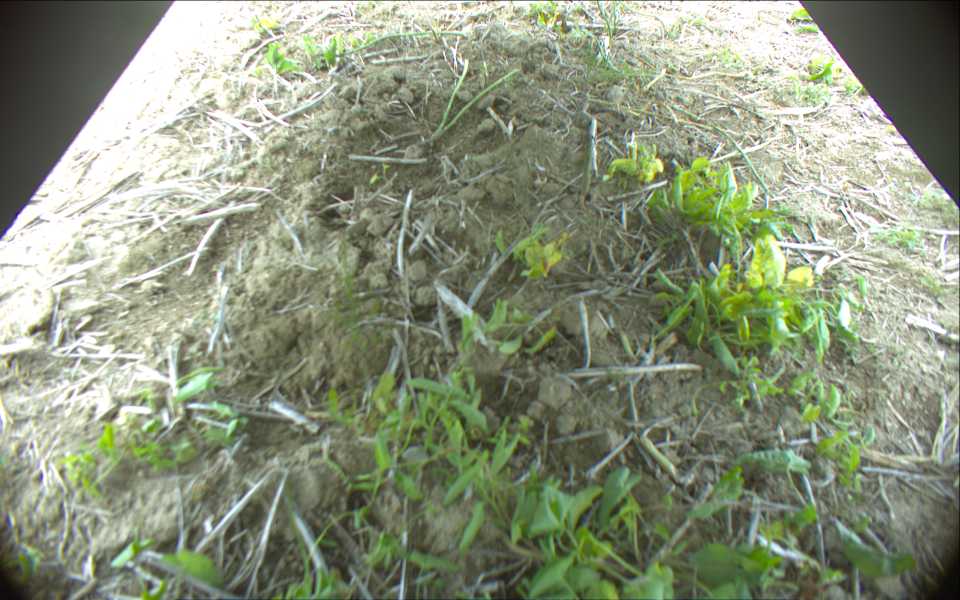aspa: (671, 105, 771, 198), (438, 69, 517, 140), (421, 59, 469, 146), (320, 30, 467, 58), (622, 1, 670, 32), (596, 1, 612, 31), (612, 1, 617, 30)
